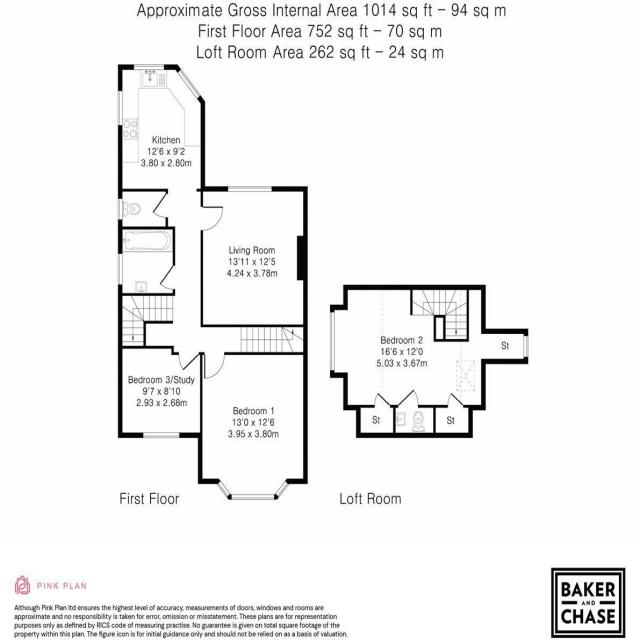DOOR: (203, 351, 228, 380), (201, 205, 225, 234), (177, 351, 201, 372), (159, 262, 176, 291), (151, 191, 168, 220)
ROOM: (329, 284, 528, 438), (198, 352, 308, 501), (200, 184, 308, 327), (118, 64, 205, 192), (117, 345, 203, 438)
WINDOW: (216, 479, 290, 502), (176, 67, 202, 101), (328, 308, 339, 374), (227, 184, 273, 193), (142, 430, 181, 440), (133, 62, 165, 71), (116, 252, 124, 286), (117, 89, 124, 127), (117, 197, 123, 221)
